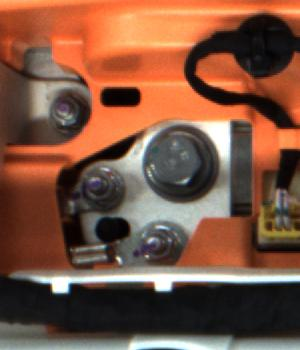nut_b: (139, 123, 226, 207)
